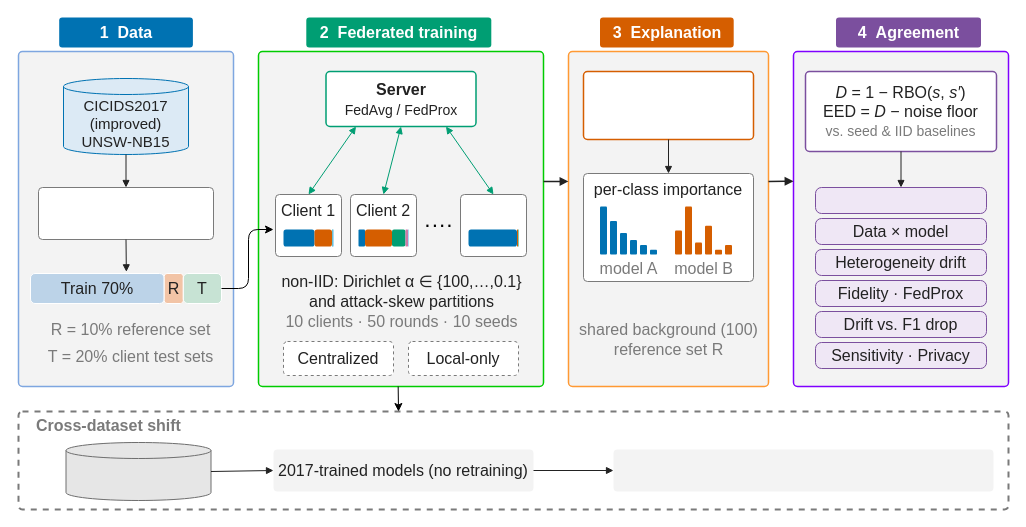
The diagram is 1026 pixels wide and 527 high, and some of its shapes have lost their labels. Here are the shapes that lost their labels. From the top down, the box of each, then its label:
(582, 70, 754, 140): SHAP values expected gradients true-class logit
(38, 186, 214, 240): Drop IDs & Dst Port remove duplicates
(814, 186, 986, 214): Class-mix effect
(460, 194, 526, 256): Client 10
(65, 442, 211, 500): CSE-CIC-IDS2018
(613, 449, 993, 491): ΔF1 · explanation shift · ECN-flag ablation
